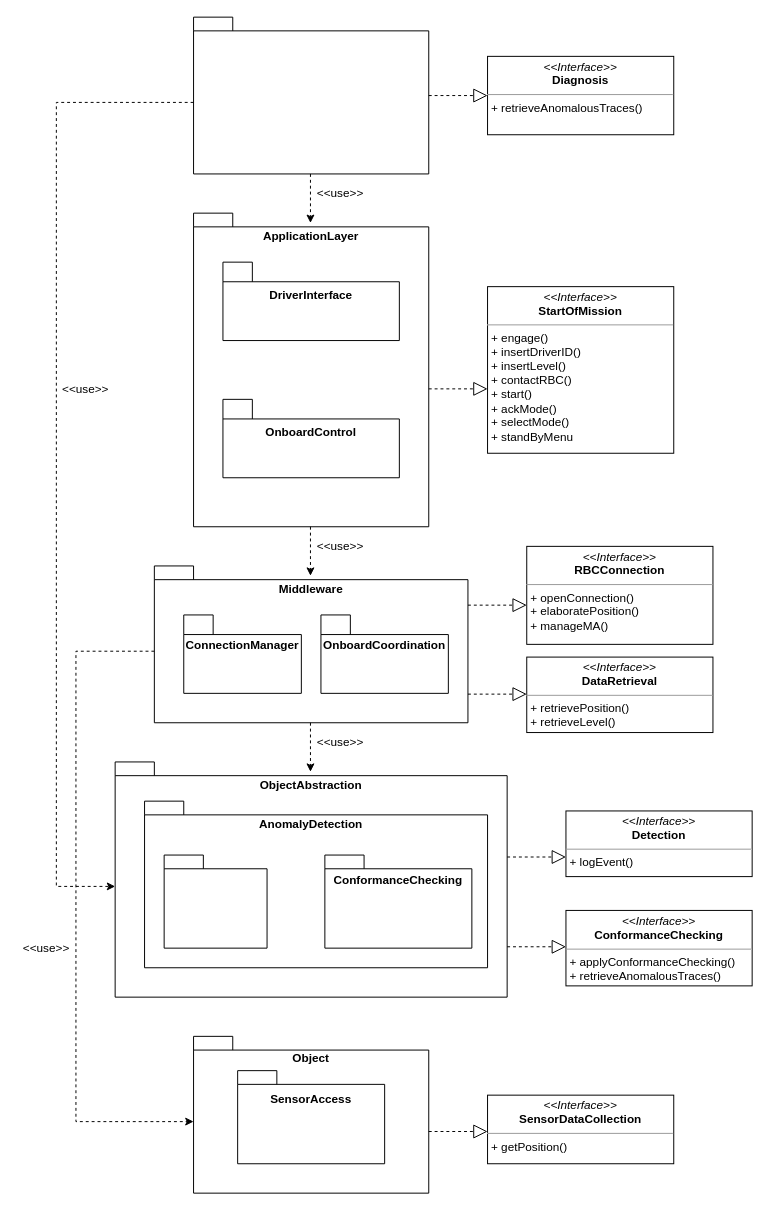
The diagram is 769 pixels wide and 1210 high, and some of its shapes have lost their labels. The shapes that lost their labels are listed below. From the top down, each one's centre as x and y in pixels, then its label:
At point (311, 95): "Business Layer".
At point (215, 901): "Logging".
